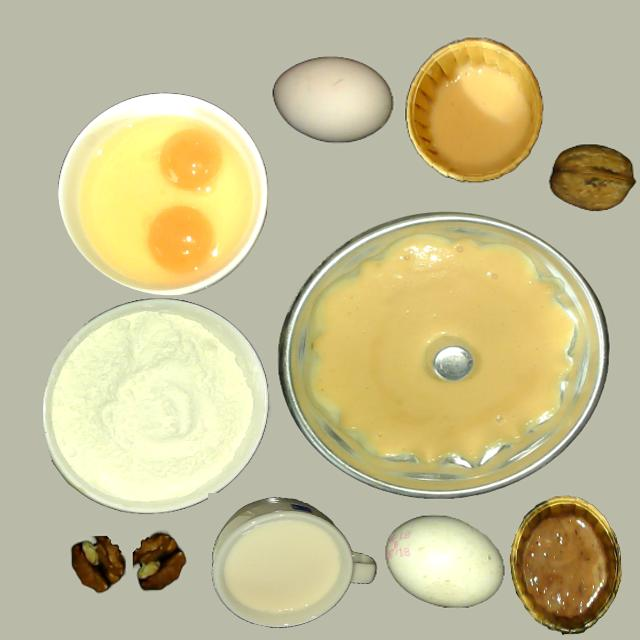Egg: (147, 206, 215, 272), (160, 130, 222, 192)
Flour: (52, 310, 252, 504)
Milk: (211, 496, 372, 628)
Walnut: (551, 144, 635, 211)
